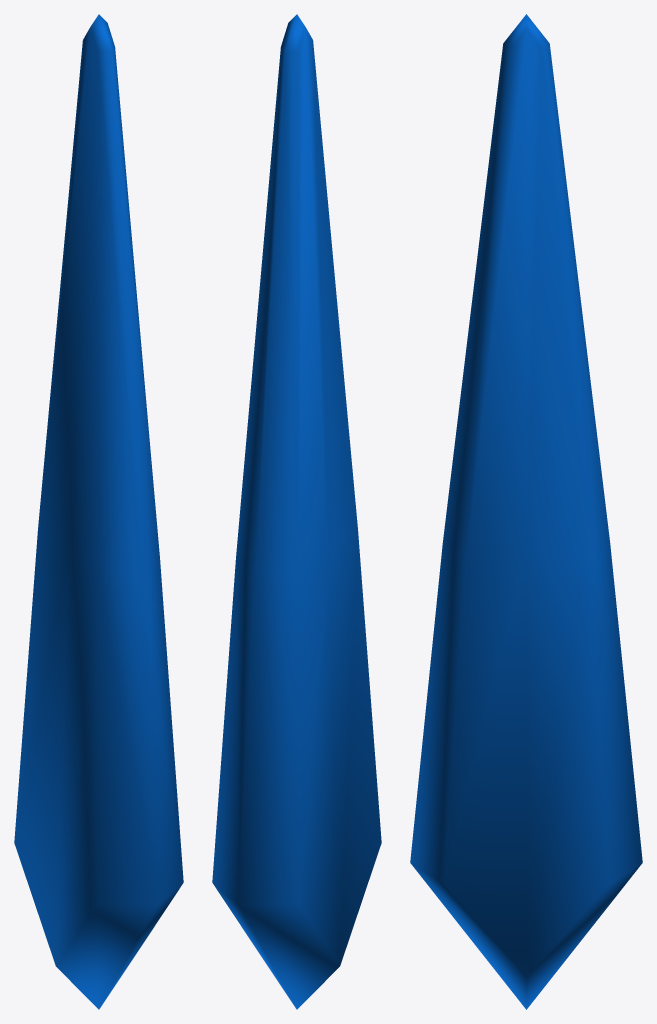
Rendered from spiky.fbx.
The picture shows the model from 3 angles, left to right: view 1: azimuth 30°, elevation 25°; view 2: azimuth 150°, elevation 25°; view 3: azimuth 270°, elevation 25°; orthographic projection.
Parts seen in each view (by area): view 1: spike; view 2: spike; view 3: spike.
Boxes of the visible parts, x1=… form: spike: x1=14, y1=14, x2=183, y2=1009; spike: x1=212, y1=14, x2=381, y2=1009; spike: x1=410, y1=14, x2=642, y2=1009.
Bounding box in the file's own units: 0.6 × 6.61 × 1.4.
